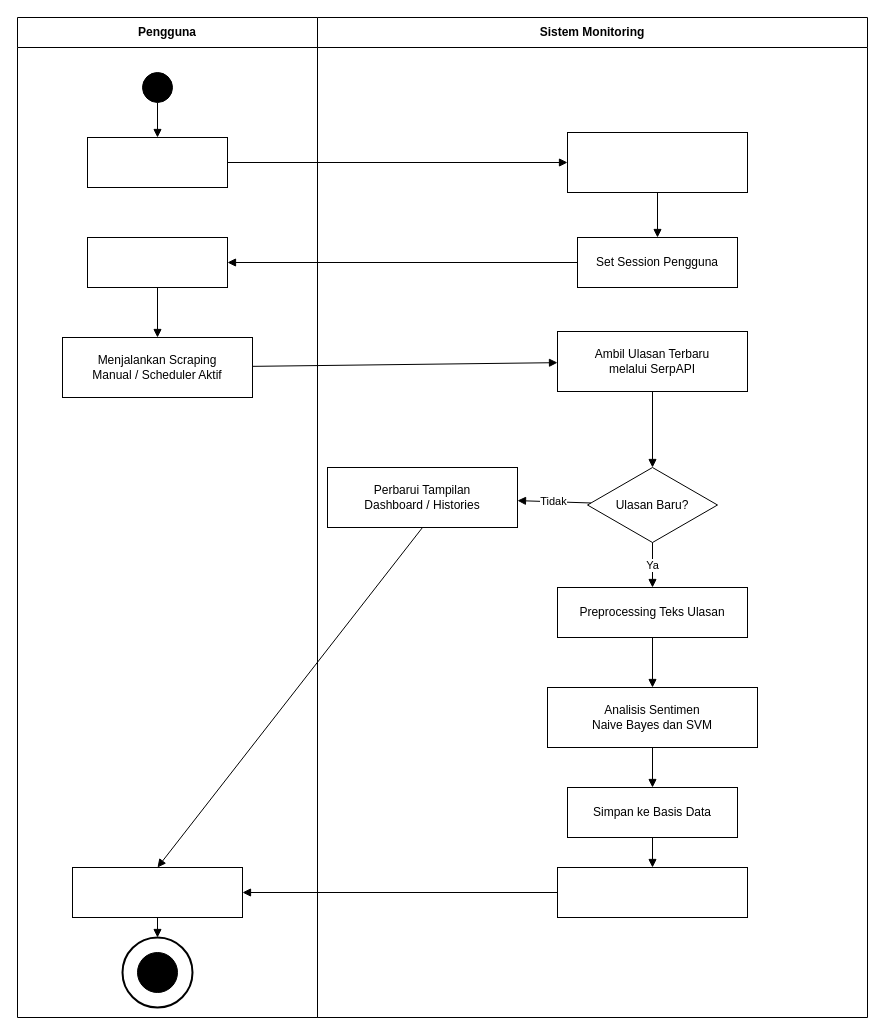
Some shapes in this 885 by 1035 pixel diagram are drawn without their labels. The shapes that lost their labels are listed below. From the top down, each one's centre as x and y in pixels, then its label:
(157,162): Login ke Sistem
(657,162): Validasi Kredensial dan Hak Akses
(157,262): Akses Dashboard
(157,892): Melihat Hasil Monitoring
(652,892): Kirim Notifikasi Telegram
